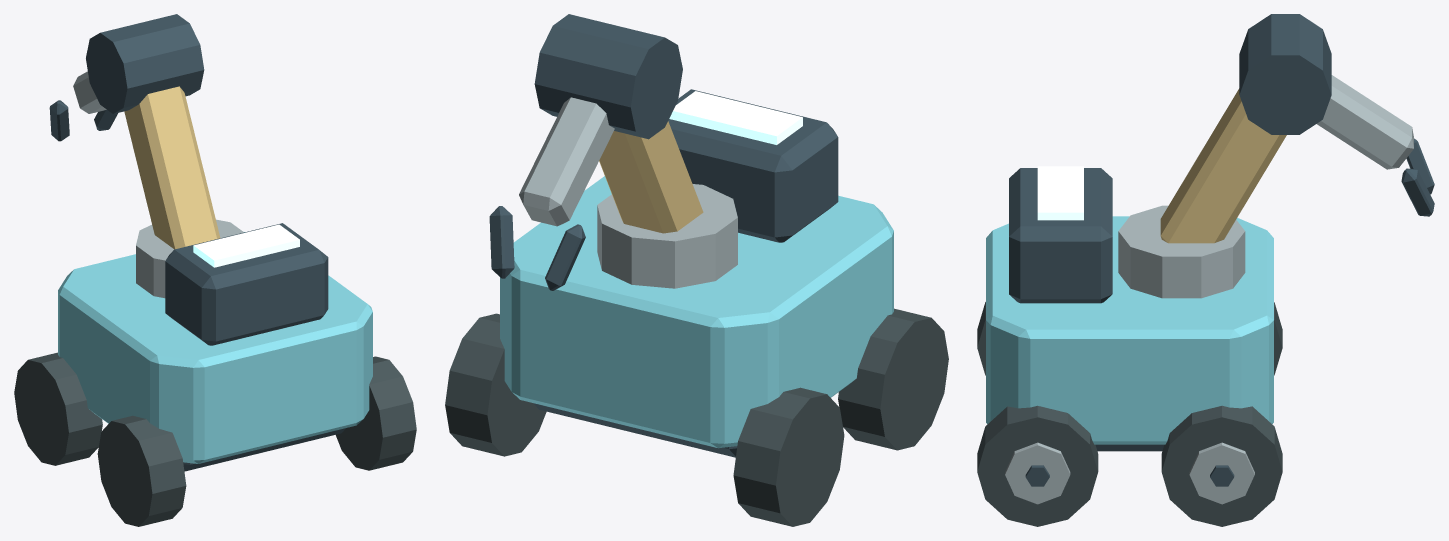
Rendered from builder.glb.
3 views of the same model, side by side, from view 1: azimuth 30°, elevation 25°; view 2: azimuth 150°, elevation 25°; view 3: azimuth 270°, elevation 25° (orthographic). The views are drawn at different scales.
Parts seen in each view (by area): view 1: chassis, asset_builder__FP_Dark, boom, arm__FP_Dark, tire.001, tire, tire.003, arm__FP_Steel, battery_signal; view 2: chassis, arm__FP_Steel, arm__FP_Dark, asset_builder__FP_Dark, tire, tire.001, tire.002, boom, battery_signal; view 3: chassis, arm__FP_Steel, asset_builder__FP_Dark, arm__FP_Dark, boom, tire.002, tire.003, hub.003, hub.002, battery_signal.
Part boxes in pixels (x1=…): chassis: x1=58, y1=232, x2=372, y2=463; asset_builder__FP_Dark: x1=165, y1=223, x2=345, y2=471; boom: x1=124, y1=86, x2=220, y2=249; arm__FP_Dark: x1=49, y1=14, x2=204, y2=141; tire.001: x1=97, y1=415, x2=186, y2=526; tire: x1=14, y1=352, x2=102, y2=465; tire.003: x1=336, y1=356, x2=416, y2=470; arm__FP_Steel: x1=73, y1=71, x2=243, y2=298; battery_signal: x1=193, y1=224, x2=299, y2=267; chassis: x1=500, y1=176, x2=893, y2=448; arm__FP_Steel: x1=519, y1=97, x2=737, y2=288; arm__FP_Dark: x1=489, y1=14, x2=682, y2=290; asset_builder__FP_Dark: x1=533, y1=89, x2=838, y2=457; tire: x1=733, y1=387, x2=844, y2=526; tire.001: x1=838, y1=308, x2=948, y2=450; tire.002: x1=445, y1=313, x2=546, y2=456; boom: x1=599, y1=121, x2=703, y2=233; battery_signal: x1=669, y1=91, x2=802, y2=144; chassis: x1=986, y1=216, x2=1273, y2=444; arm__FP_Steel: x1=1118, y1=75, x2=1413, y2=298; asset_builder__FP_Dark: x1=1009, y1=168, x2=1163, y2=451; arm__FP_Dark: x1=1239, y1=14, x2=1434, y2=216; boom: x1=1160, y1=88, x2=1286, y2=243; tire.002: x1=1161, y1=405, x2=1282, y2=526; tire.003: x1=977, y1=405, x2=1098, y2=526; hub.003: x1=1005, y1=442, x2=1070, y2=504; hub.002: x1=1189, y1=442, x2=1254, y2=504; battery_signal: x1=1037, y1=166, x2=1083, y2=220.
Size of the model in its own units: 0.6062 by 0.8061 by 0.7939.
